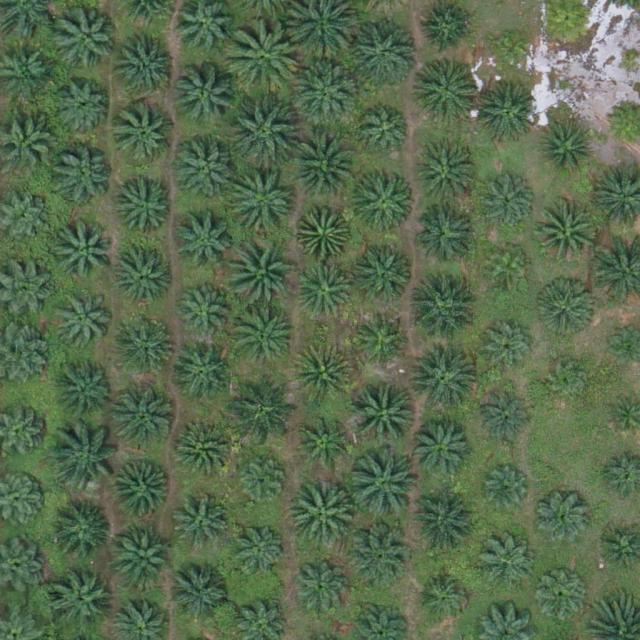Healthy: (230, 372, 301, 443), (230, 169, 301, 240), (405, 492, 476, 562), (349, 452, 419, 523), (52, 425, 123, 495), (227, 234, 297, 305), (293, 58, 363, 129), (288, 129, 358, 200), (352, 381, 422, 452), (286, 480, 356, 550), (230, 303, 300, 373), (230, 97, 300, 167), (229, 24, 299, 94), (349, 17, 419, 87), (406, 274, 476, 344), (407, 345, 477, 415), (52, 502, 115, 565), (50, 145, 113, 208), (52, 291, 115, 354), (114, 103, 177, 166), (119, 32, 182, 95), (174, 64, 237, 127), (415, 203, 478, 266), (535, 203, 598, 266), (411, 421, 473, 484), (347, 526, 409, 589), (170, 419, 232, 482), (171, 562, 233, 625), (112, 460, 174, 523), (112, 526, 175, 588), (50, 572, 112, 635), (57, 219, 119, 282), (55, 359, 117, 422), (114, 386, 176, 449), (118, 315, 180, 378), (113, 246, 175, 309), (115, 175, 177, 238), (174, 137, 236, 200), (171, 211, 233, 274), (173, 344, 235, 407), (292, 343, 354, 406), (354, 246, 416, 309), (353, 168, 415, 231), (415, 59, 477, 122), (417, 146, 479, 209), (474, 82, 536, 145), (56, 10, 118, 72), (536, 277, 598, 339), (238, 454, 293, 509), (231, 521, 286, 576), (293, 559, 348, 614), (417, 571, 472, 626), (535, 571, 590, 626), (480, 536, 535, 591), (176, 497, 231, 552), (177, 283, 232, 338), (297, 204, 352, 259), (299, 262, 354, 317), (296, 419, 351, 474), (358, 309, 413, 364), (360, 106, 415, 161), (478, 392, 533, 447), (483, 318, 538, 373), (536, 491, 590, 546), (56, 79, 110, 134), (481, 173, 535, 228), (540, 123, 594, 178)
Small: (483, 467, 530, 515), (487, 26, 534, 74), (486, 244, 533, 291), (547, 359, 594, 406)
